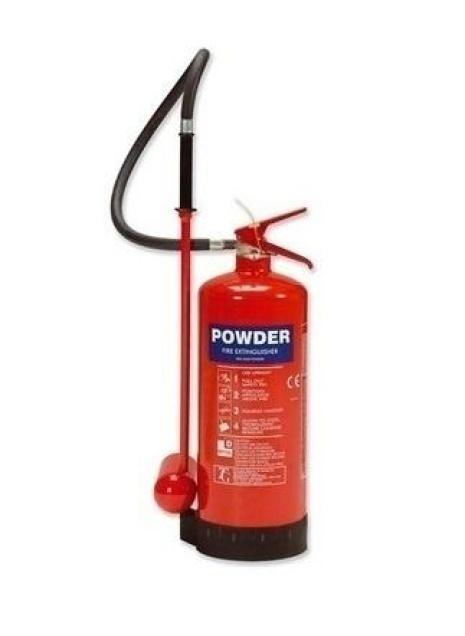APAR: (195, 206, 314, 561)
